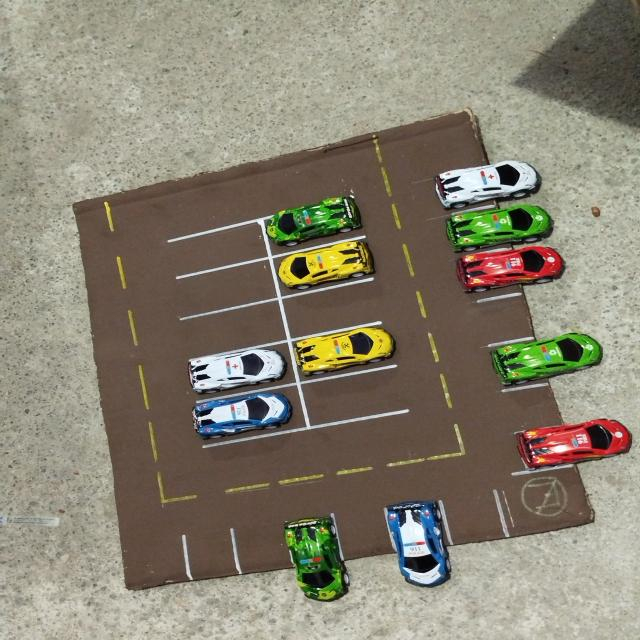libre: (171, 295, 288, 358), (300, 364, 411, 428), (167, 256, 279, 319), (280, 274, 386, 338), (161, 216, 269, 276), (463, 287, 555, 345), (490, 377, 593, 428), (435, 486, 508, 556), (121, 531, 190, 594), (182, 520, 239, 586), (329, 507, 394, 564), (231, 519, 291, 579)
no_estacionarse: (490, 461, 599, 540)
ocupado: (183, 380, 308, 447), (257, 187, 374, 258), (183, 339, 298, 401), (288, 322, 401, 384), (271, 235, 379, 298), (415, 156, 513, 218), (444, 240, 544, 300), (427, 200, 523, 255), (379, 496, 457, 562), (501, 416, 589, 474), (477, 330, 573, 383), (281, 514, 347, 579)
